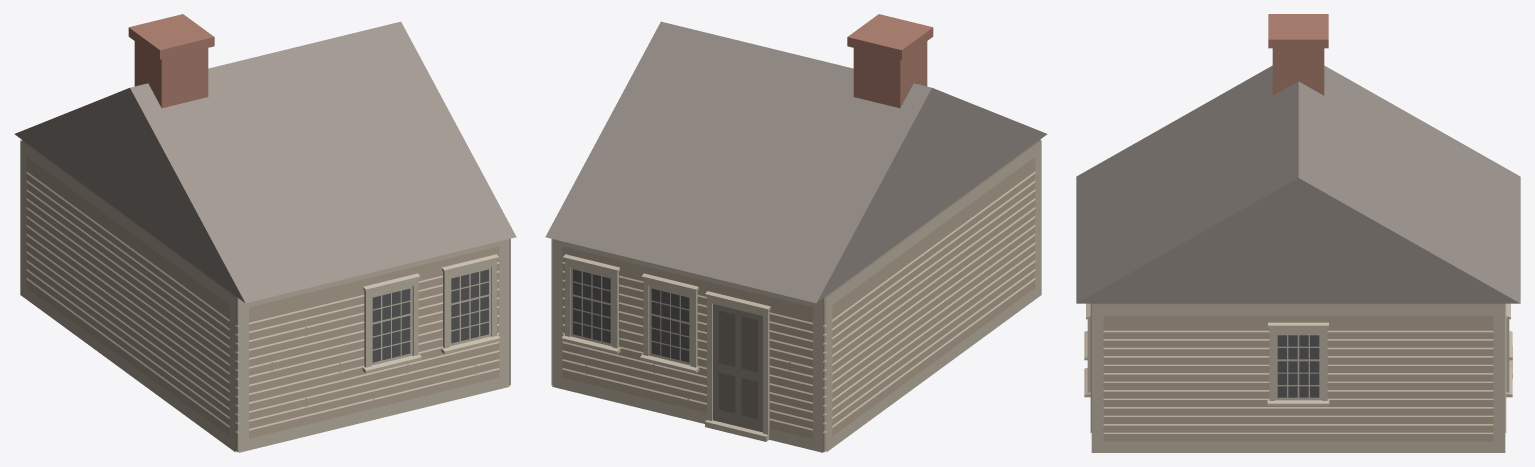
File: inf_packer_dwelling__inferred_1835.glb
The picture shows the model from 3 angles, left to right: view 1: azimuth 30°, elevation 25°; view 2: azimuth 150°, elevation 25°; view 3: azimuth 270°, elevation 25°; orthographic projection. The views are drawn at different scales.
Visible parts, largest first — view 1: inf_packer_dwelling__inferred_1835; view 2: inf_packer_dwelling__inferred_1835; view 3: inf_packer_dwelling__inferred_1835.
Boxes of the visible parts, box(x1,y1,x2,y2) form: inf_packer_dwelling__inferred_1835: box(14, 14, 516, 452); inf_packer_dwelling__inferred_1835: box(545, 14, 1047, 452); inf_packer_dwelling__inferred_1835: box(1076, 14, 1520, 452).
Bounding box in the file's own units: 5.03 × 5.69 × 7.21.
